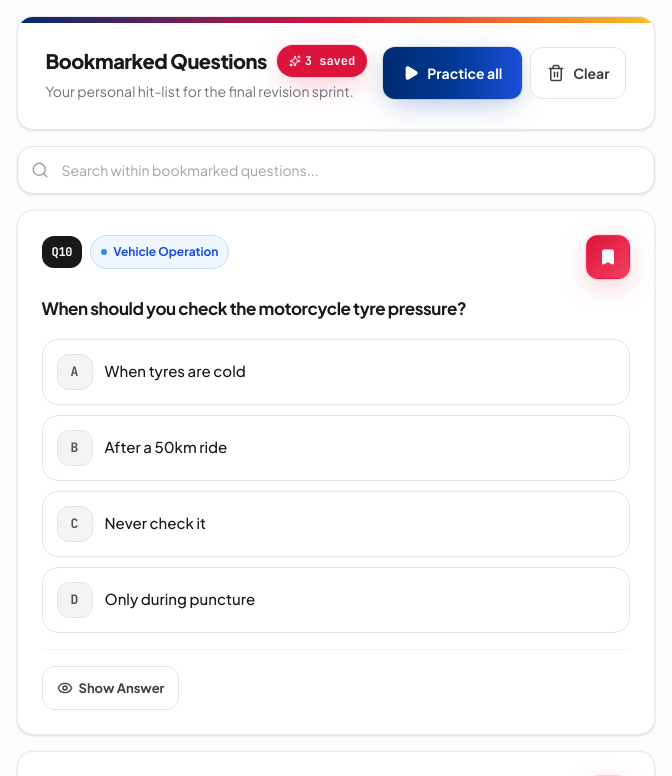
it: BookmarksView › filters bookmarked questions using the search bar
Type "tyre" into the search field with placeholder "Search within bookmarked questions..." at (336,170), box [16, 146, 656, 194]
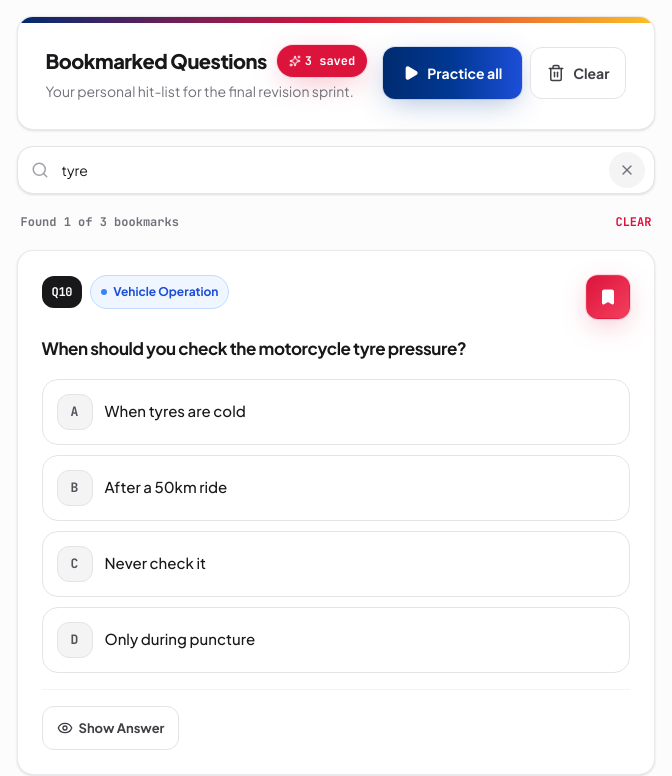
Expected: the heading "When should you check the motorcycle tyre pressure?" is shown, [42, 337, 466, 359]
Expected: the text "Found 1 of 3 bookmarks" is shown, [20, 210, 179, 234]
